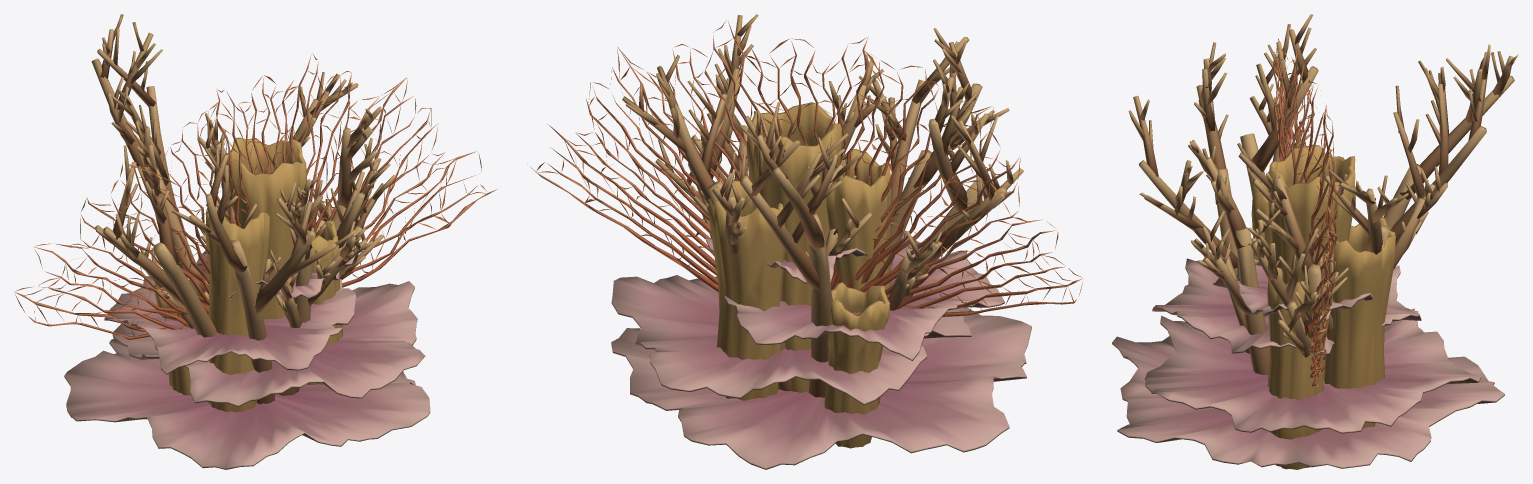
File: reef-kit-mid.glb
The picture shows the model from 3 angles, left to right: view 1: azimuth 30°, elevation 25°; view 2: azimuth 150°, elevation 25°; view 3: azimuth 270°, elevation 25°; orthographic projection. The views are drawn at different scales.
Visible parts, largest first — view 1: coral_table, coral_antler, coral_fan, sponge_cluster; view 2: coral_table, coral_antler, sponge_cluster, coral_fan; view 3: coral_table, coral_antler, sponge_cluster, coral_fan.
Boxes of the visible parts, x1,y1,x2,y2 form: coral_table: [64, 242, 430, 469]; coral_antler: [91, 14, 395, 404]; coral_fan: [14, 53, 496, 339]; sponge_cluster: [154, 137, 342, 412]; coral_table: [611, 230, 1031, 469]; coral_antler: [622, 14, 1023, 397]; sponge_cluster: [708, 102, 891, 448]; coral_fan: [527, 19, 1082, 316]; coral_table: [1112, 257, 1504, 468]; coral_antler: [1128, 14, 1518, 374]; sponge_cluster: [1251, 144, 1395, 469]; coral_fan: [1273, 38, 1337, 387].
Size of the model in its own units: 8.14 by 5.52 by 5.5.
